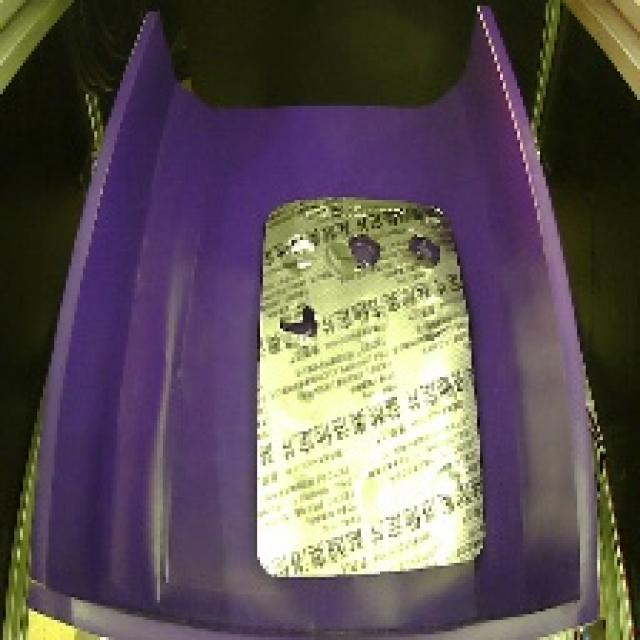med_plate: (246, 176, 492, 593)
